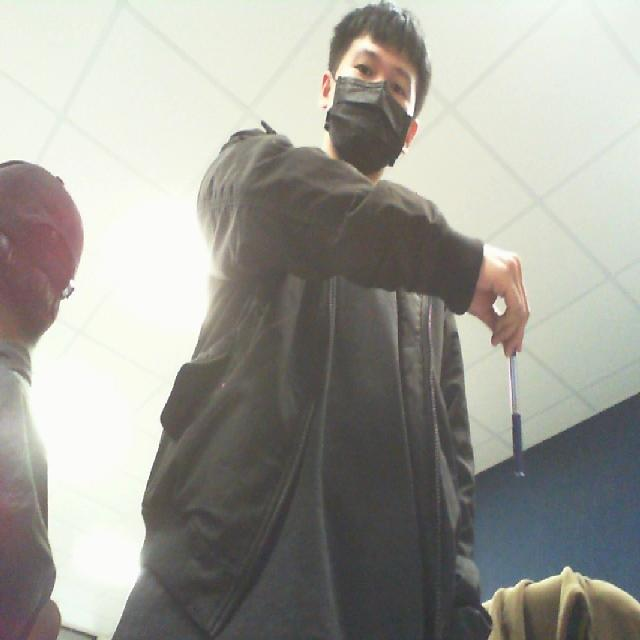Pen: (488, 325, 550, 508)
